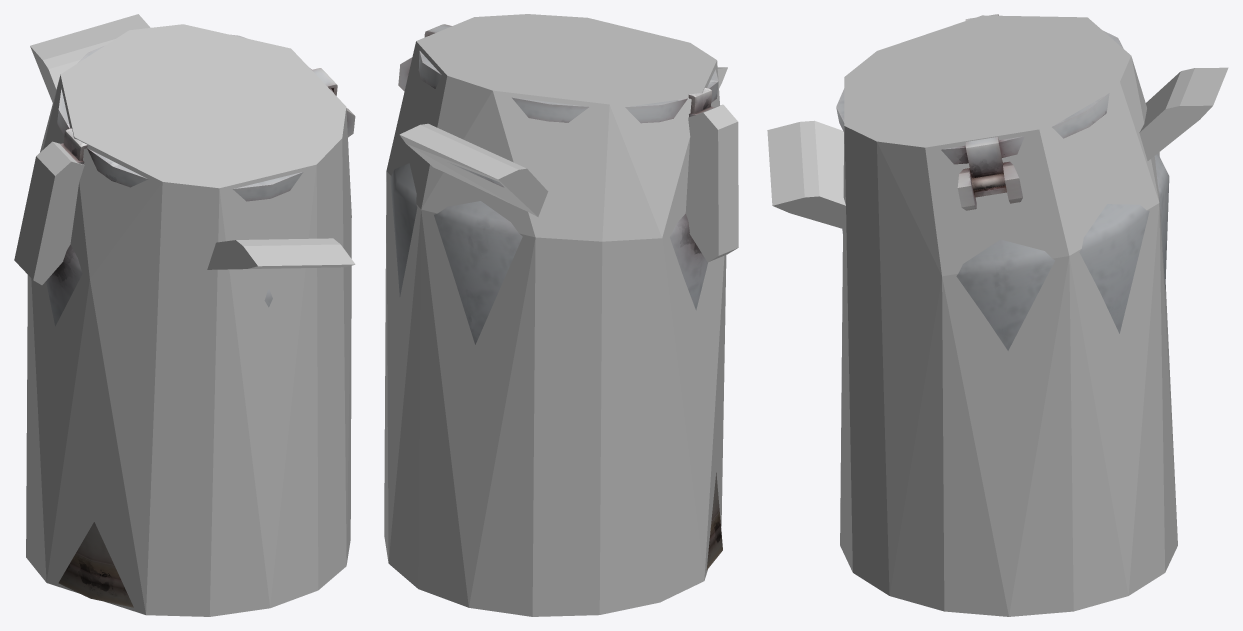
File: SM_BarrelMetallic01.fbx
3 views of the same model, side by side, from view 1: azimuth 30°, elevation 25°; view 2: azimuth 150°, elevation 25°; view 3: azimuth 270°, elevation 25° (orthographic). The views are drawn at different scales.
Visible parts, largest first — view 1: SM_BarrelMetallic01_ConvexHulls, SM_BarrelMetallic01; view 2: SM_BarrelMetallic01_ConvexHulls, SM_BarrelMetallic01; view 3: SM_BarrelMetallic01_ConvexHulls, SM_BarrelMetallic01.
Part boxes in pixels (bbox=[...]): SM_BarrelMetallic01_ConvexHulls: bbox=[14, 14, 355, 616]; SM_BarrelMetallic01: bbox=[46, 34, 355, 607]; SM_BarrelMetallic01_ConvexHulls: bbox=[384, 14, 738, 616]; SM_BarrelMetallic01: bbox=[390, 24, 722, 570]; SM_BarrelMetallic01_ConvexHulls: bbox=[767, 15, 1228, 616]; SM_BarrelMetallic01: bbox=[836, 14, 1169, 350].
Size of the model in its own units: 68.53 by 86.39 by 101.
2 materials, 1 textured.
